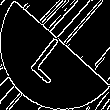L_NE: (29, 26, 81, 84)
